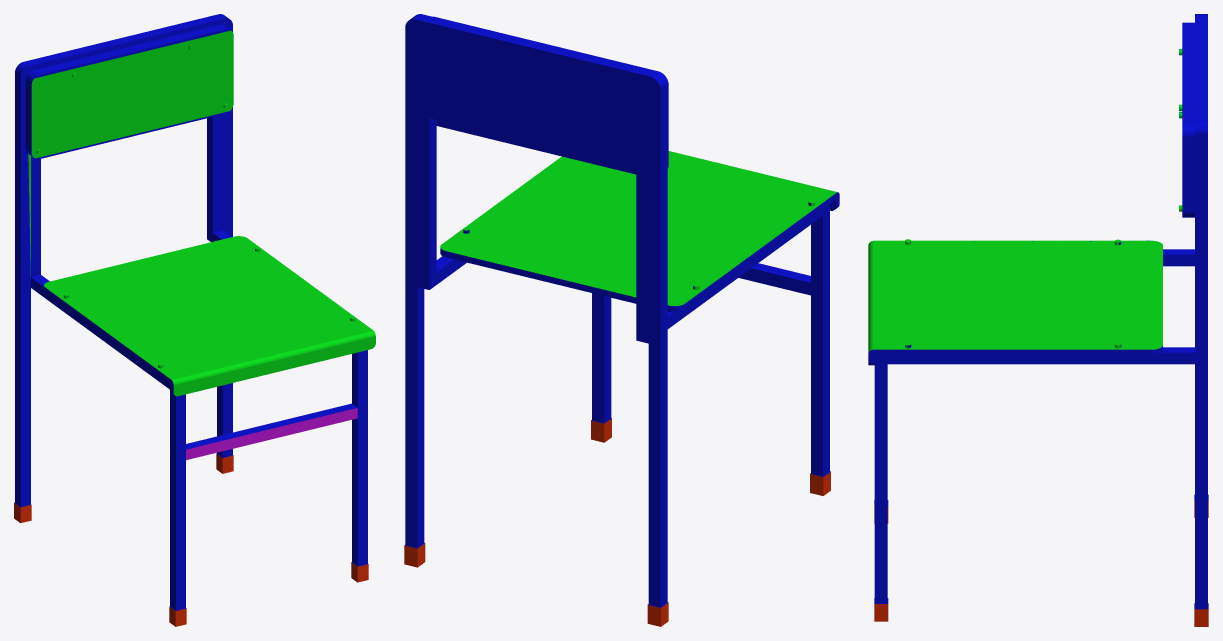
Rendered from chair1.fbx.
3 views of the same model, side by side, from view 1: azimuth 30°, elevation 25°; view 2: azimuth 150°, elevation 25°; view 3: azimuth 270°, elevation 25° (orthographic). The views are drawn at different scales.
Parts seen in each view (by area): view 1: Group#203-Entity896855; view 2: Group#203-Entity896855; view 3: Group#203-Entity896855.
Boxes of the visible parts, <box> form: Group#203-Entity896855: <box>14,14,375,626</box>; Group#203-Entity896855: <box>404,14,839,626</box>; Group#203-Entity896855: <box>868,14,1208,626</box>.
Size of the model in its own units: 42.2 by 86 by 52.83.
